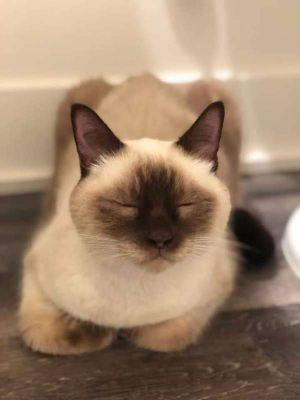siamese: (55, 86, 247, 290)
